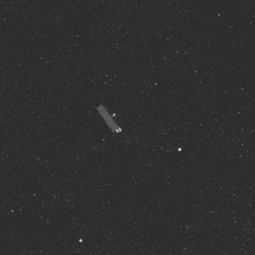proba_3_ocs: (85, 94, 131, 146)
